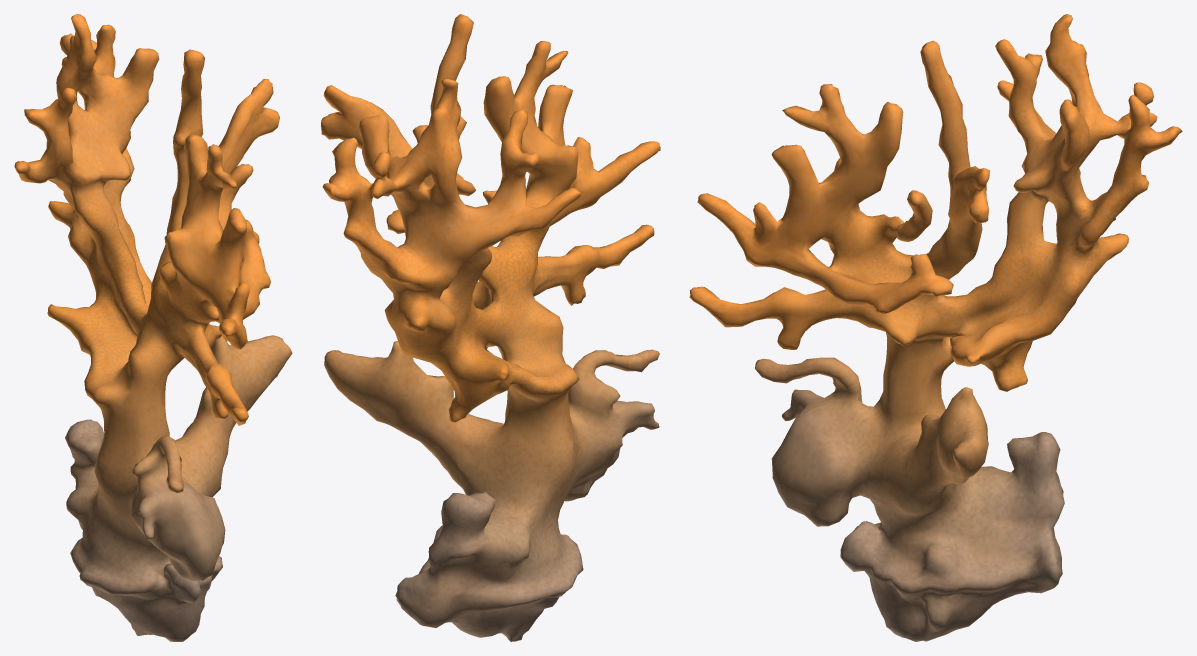
Rendered from orange_coral.fbx.
3 renders of one model, left to right at view 1: azimuth 30°, elevation 25°; view 2: azimuth 150°, elevation 25°; view 3: azimuth 270°, elevation 25°, orthographic. The views are drawn at different scales.
Visible parts, largest first — view 1: cc_Group59561.001; view 2: cc_Group59561.001; view 3: cc_Group59561.001.
Part boxes in pixels (x1,y1,x2,y2): cc_Group59561.001: (14, 14, 292, 641); cc_Group59561.001: (321, 14, 660, 641); cc_Group59561.001: (689, 14, 1182, 641).
Size of the model in its own units: 94.75 by 204 by 150.
Materials: 1 (1 with a texture image).
